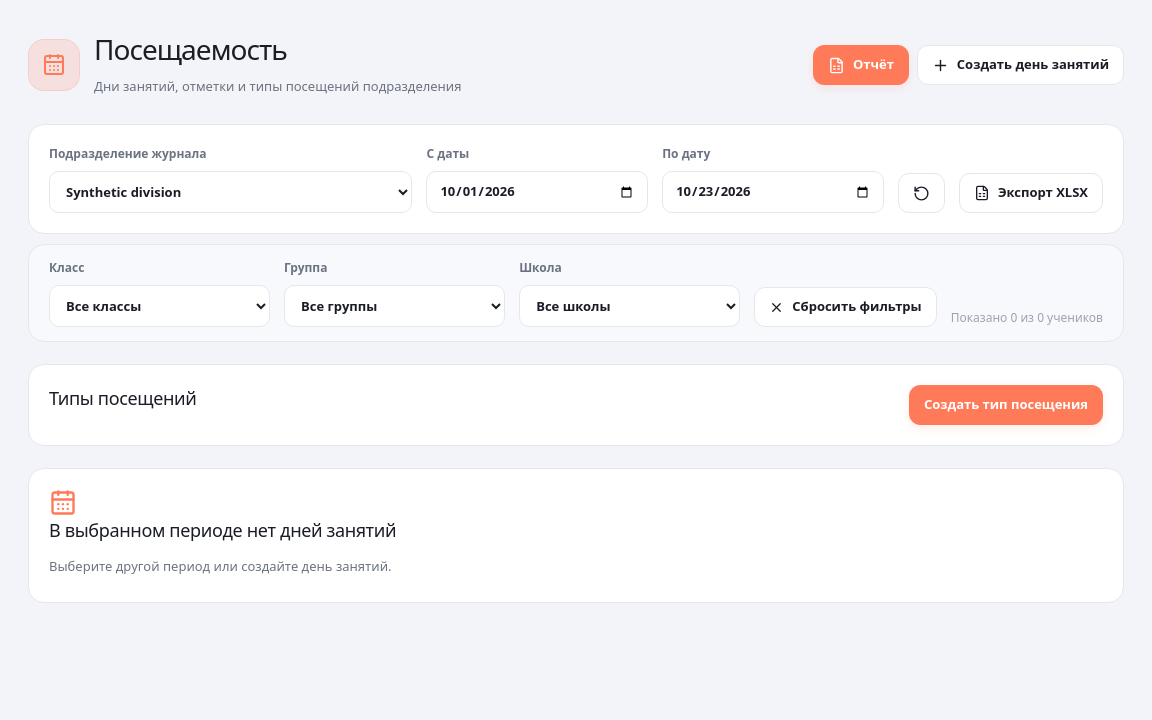
Scenario: cancels the pending read and ignores its late success
Click the button "Отчёт": click(861, 65) [813,45,909,85]
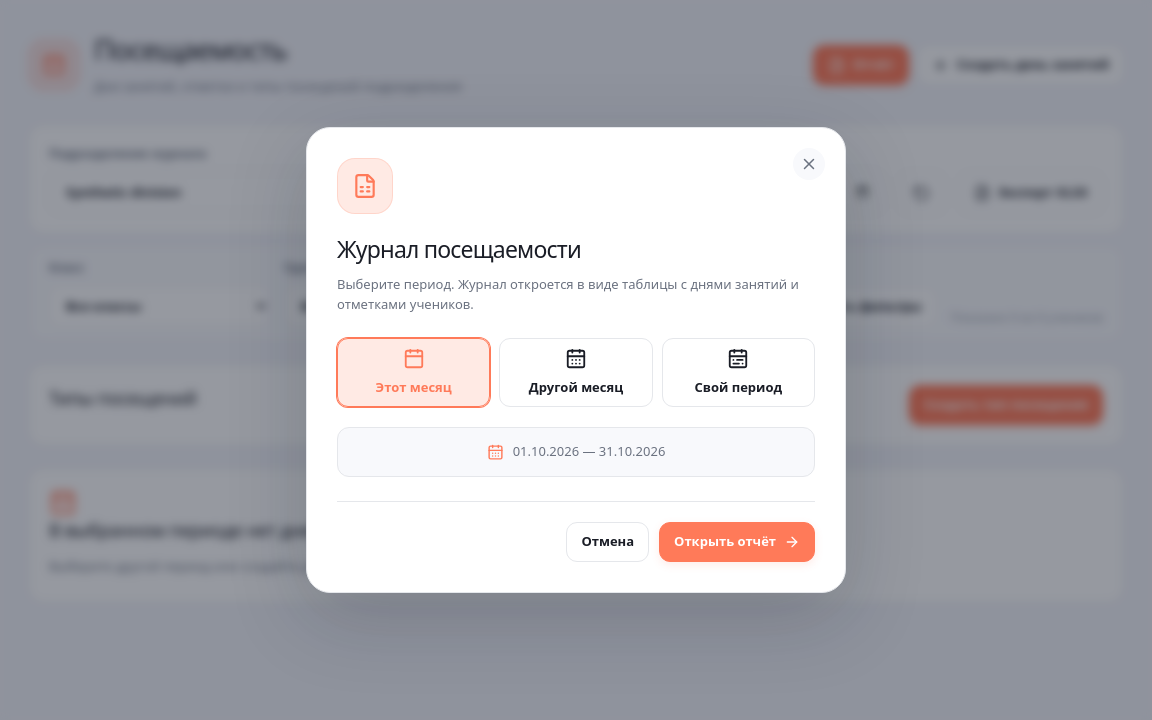
Click the button "Открыть отчёт": click(737, 542) [659,522,815,562]
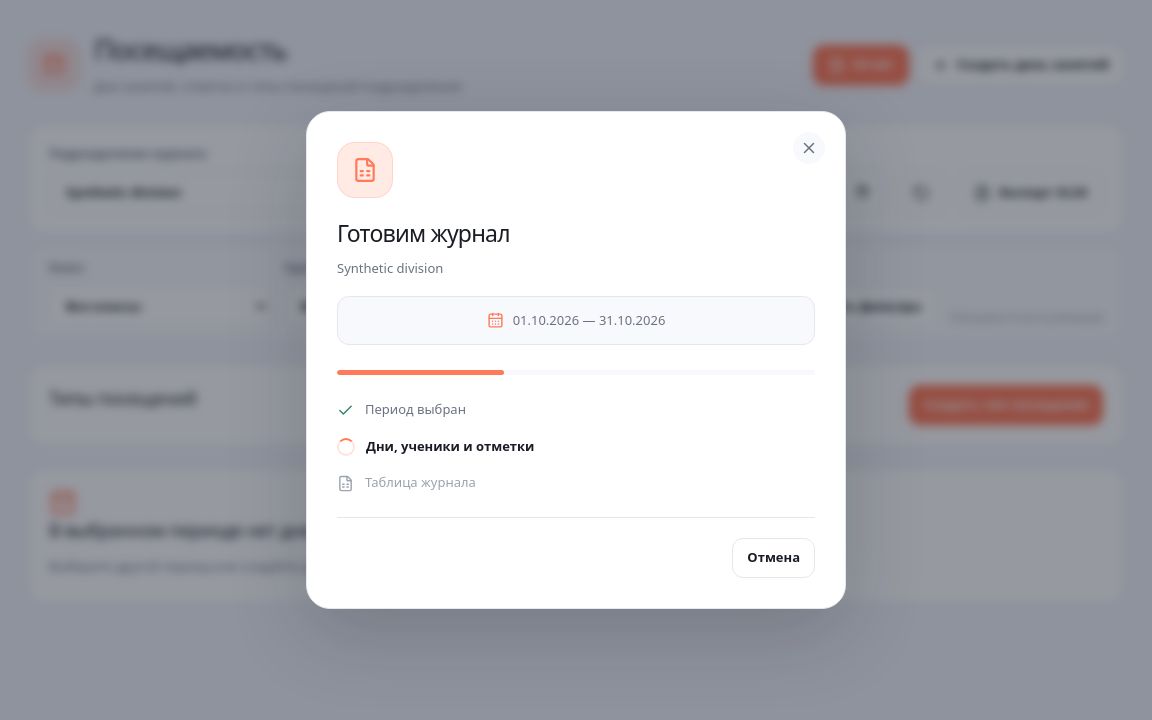
Click the button "Отмена": click(774, 558) [732,538,815,578]
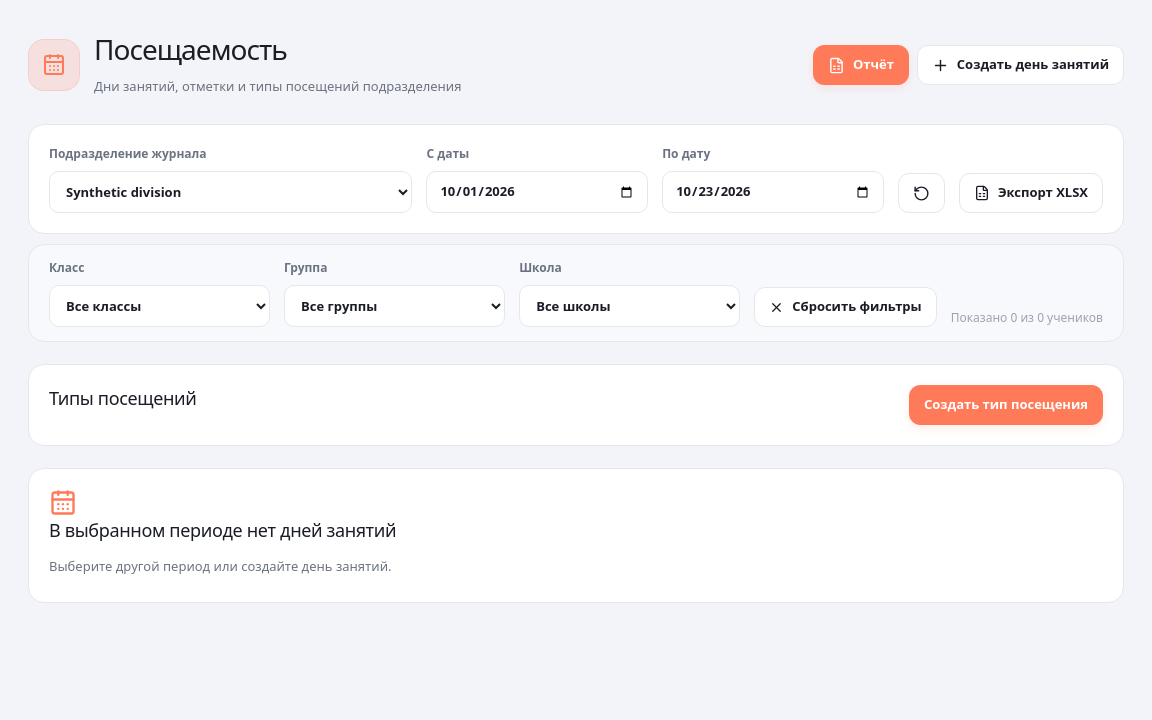
Check: the dialog is gone
